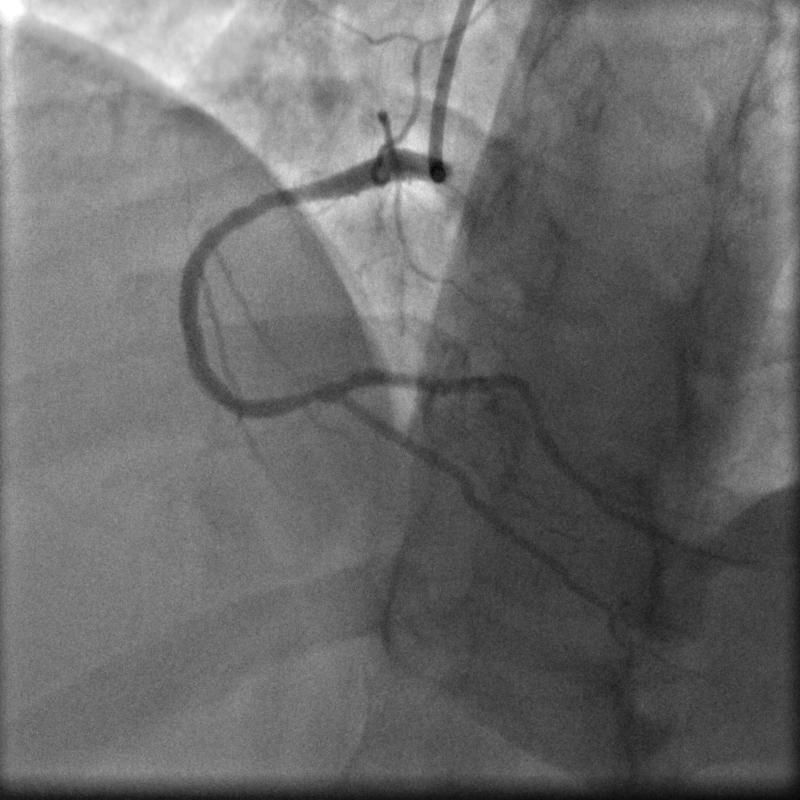Stenosis: (300, 384, 330, 407)
